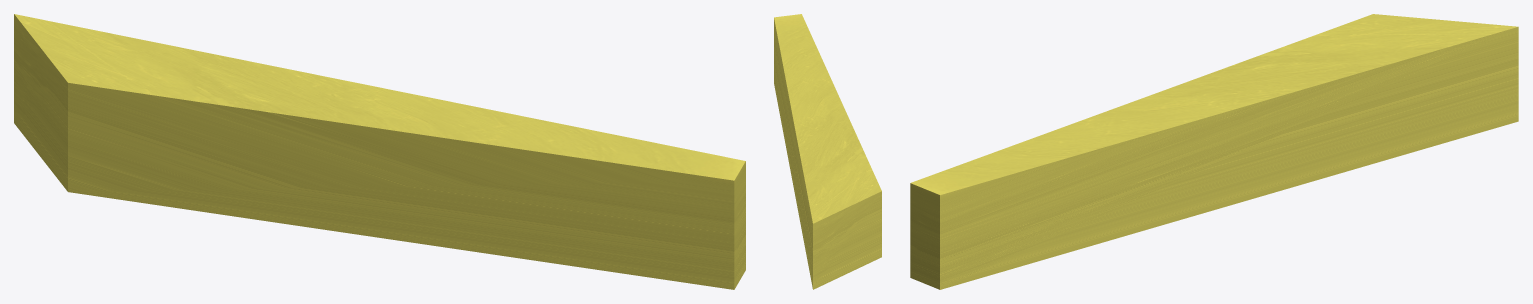
Rendered from jaune7.FBX.
3 views of the same model, side by side, from view 1: azimuth 30°, elevation 25°; view 2: azimuth 150°, elevation 25°; view 3: azimuth 270°, elevation 25° (orthographic). The views are drawn at different scales.
Parts seen in each view (by area): view 1: Ligne029; view 2: Ligne029; view 3: Ligne029.
Boxes of the visible parts, x1,y1,x2,y2 form: Ligne029: (14,14,745,289); Ligne029: (774,14,881,289); Ligne029: (910,14,1518,289).
Bounding box in the file's own units: 12.91 × 3.15 × 18.32.
Materials: 1 (1 with a texture image).
